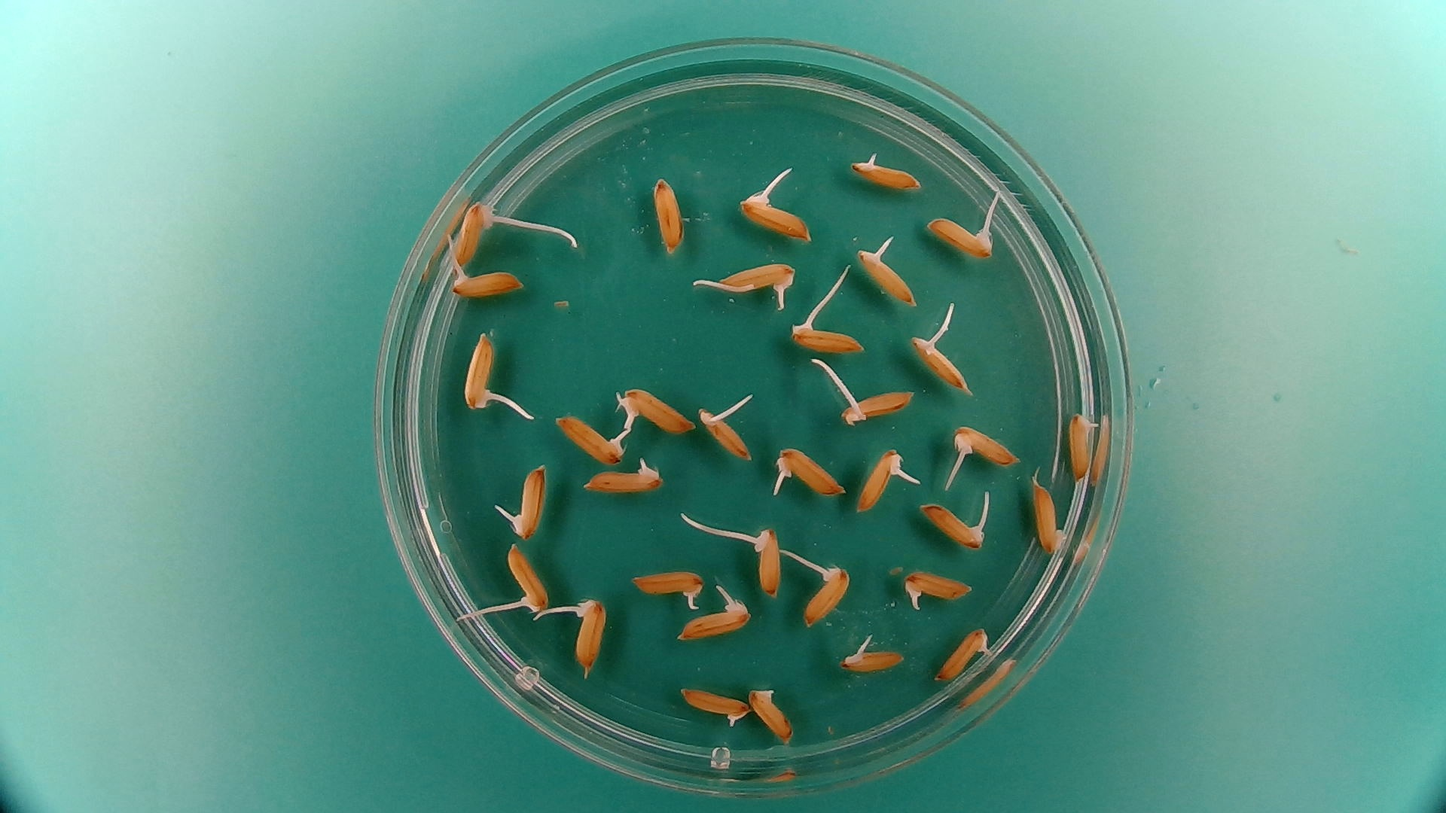no: (1028, 476, 1071, 554), (648, 174, 688, 255), (746, 684, 795, 744)
yes: (855, 235, 920, 307), (674, 586, 753, 643), (614, 384, 697, 437), (551, 411, 630, 466), (497, 461, 551, 541), (910, 333, 977, 396), (771, 443, 846, 498), (914, 497, 990, 550), (448, 196, 502, 269), (736, 193, 813, 243), (697, 399, 755, 464), (844, 148, 929, 192), (856, 444, 908, 515), (932, 624, 993, 683), (801, 559, 852, 629), (504, 539, 551, 614), (787, 311, 868, 354), (578, 458, 668, 496), (676, 684, 751, 729), (923, 214, 996, 260), (950, 422, 1023, 468), (626, 565, 707, 606), (837, 387, 916, 427), (721, 260, 798, 300), (461, 332, 498, 415), (446, 263, 527, 300), (900, 567, 975, 606), (745, 524, 783, 597), (574, 594, 609, 673), (837, 640, 907, 674), (1066, 410, 1097, 485)
